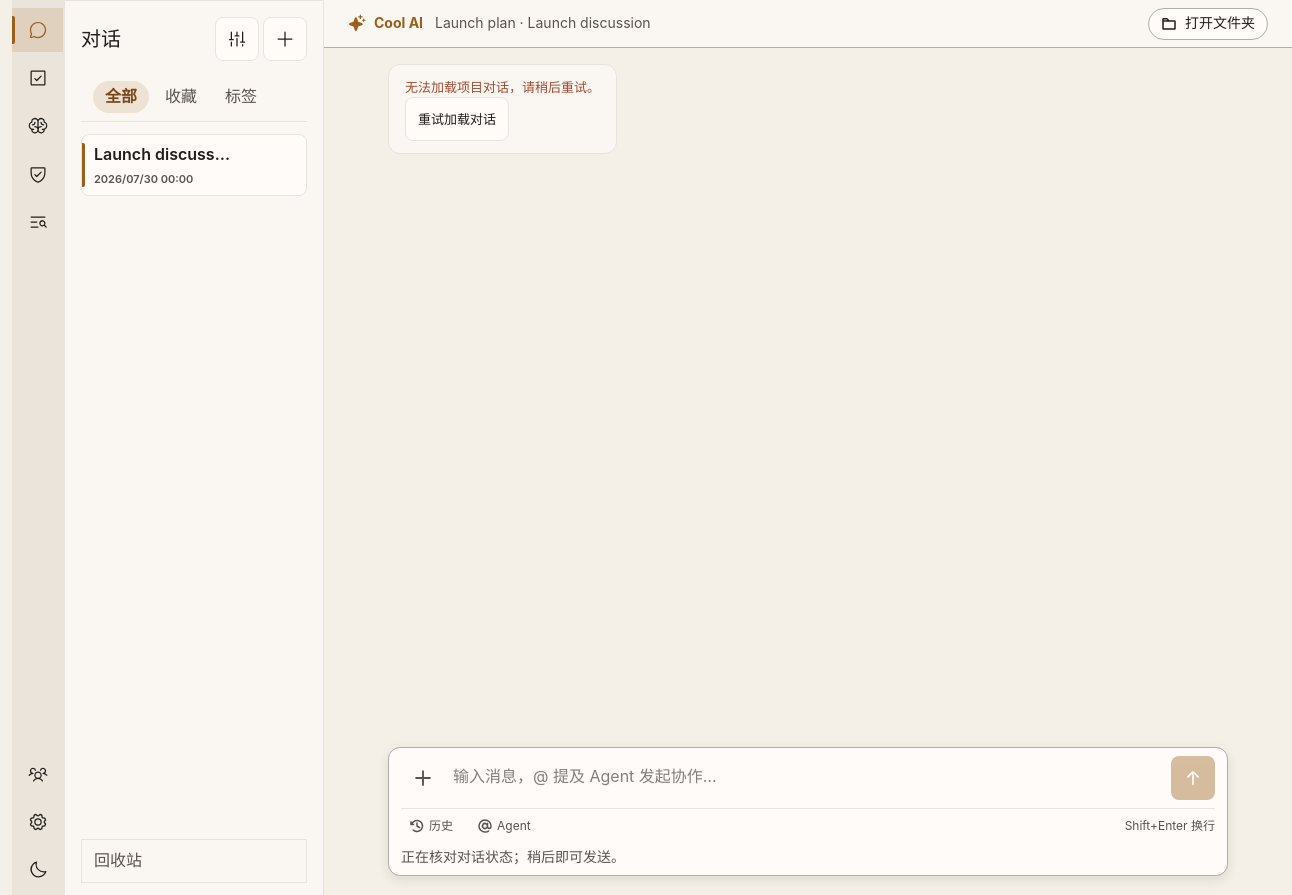
desktop collaboration cockpit › keeps 对话 on the current project and returns from governance with Escape or Cmd+1
The width and height of the screenshot is (1292, 895).
Click the button named "任务".
click(38, 78)  # box [12, 56, 63, 100]
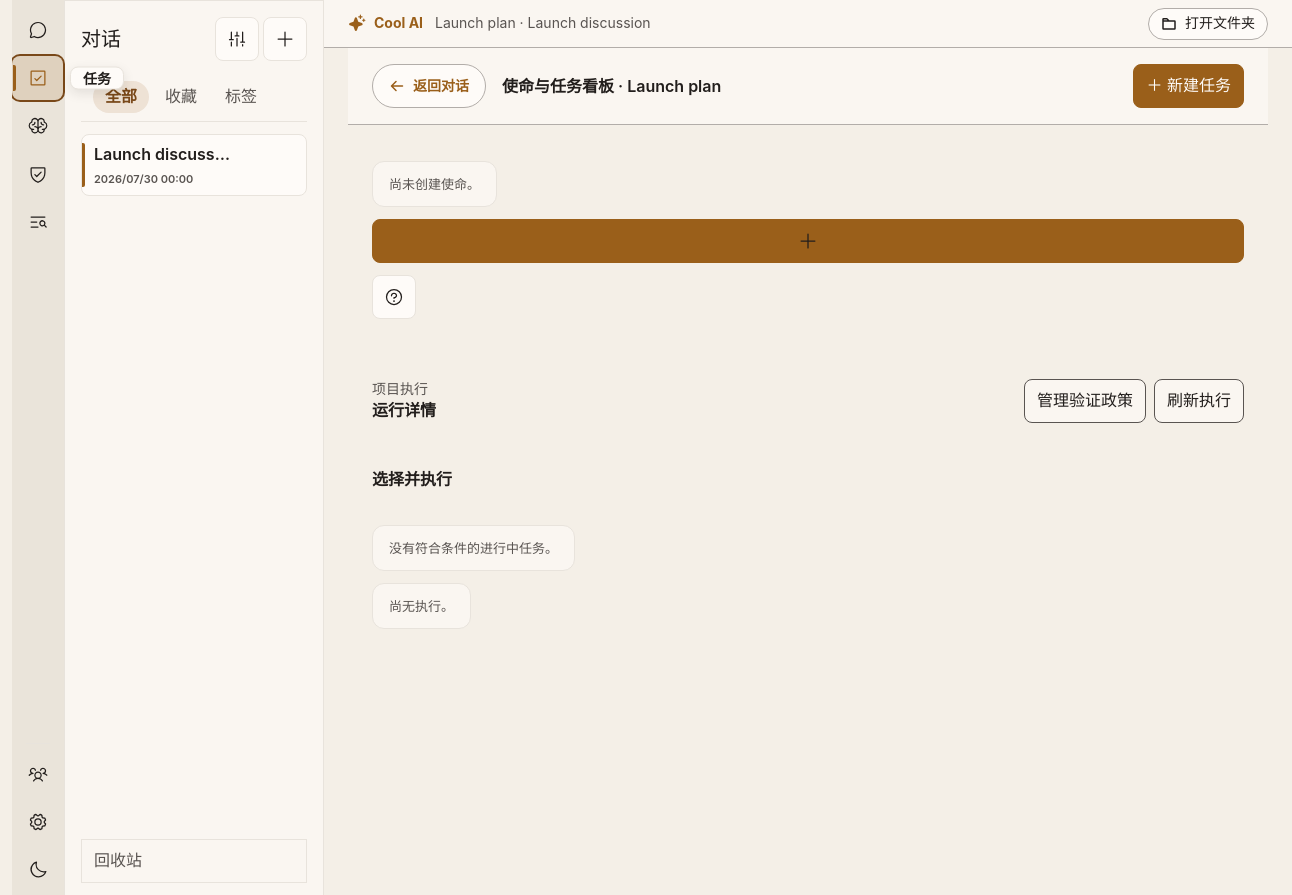
Check: the button "返回对话" is shown, box [372, 64, 486, 108]
Press Escape
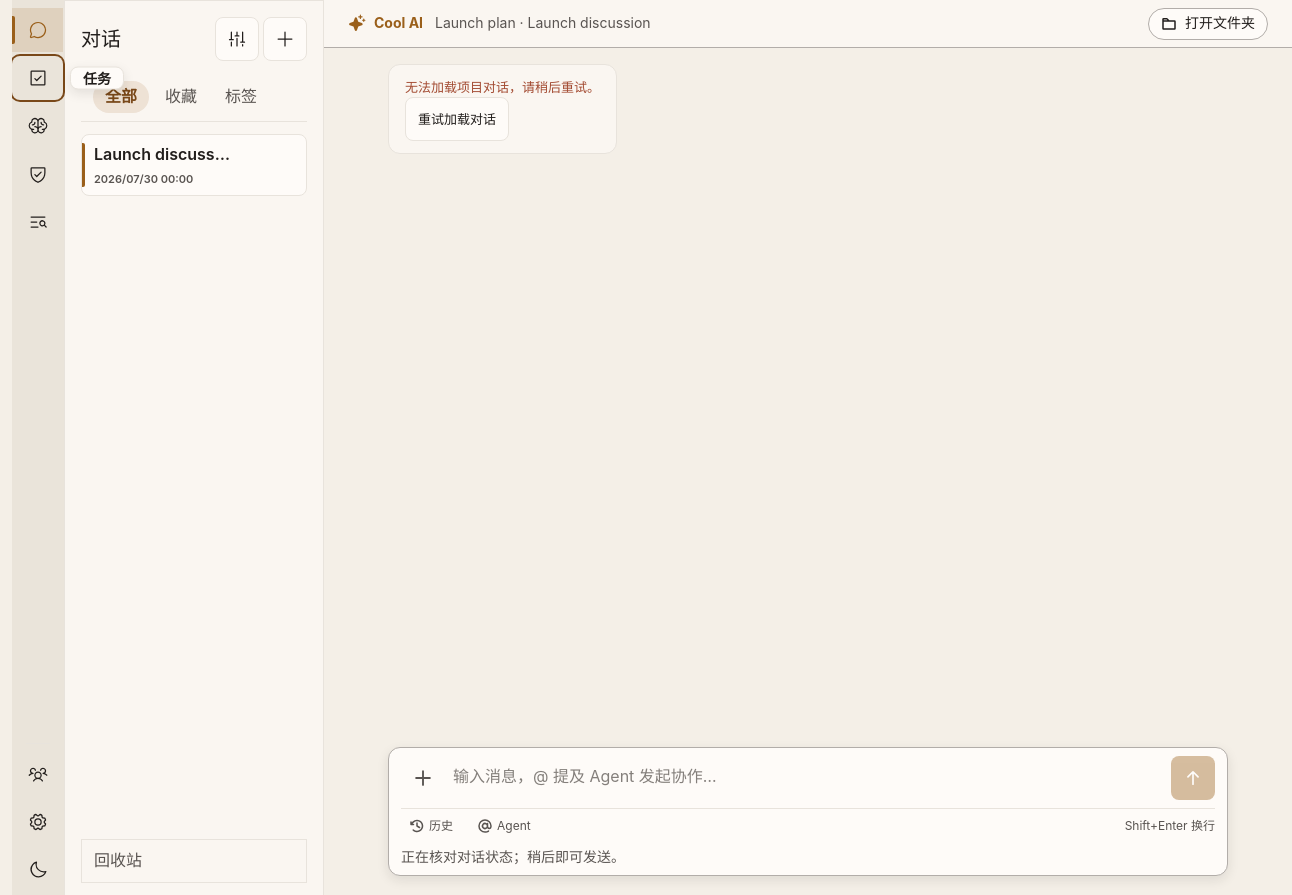
Check: the button "返回对话" is gone
Type keys "{Control>}3{/Control}"
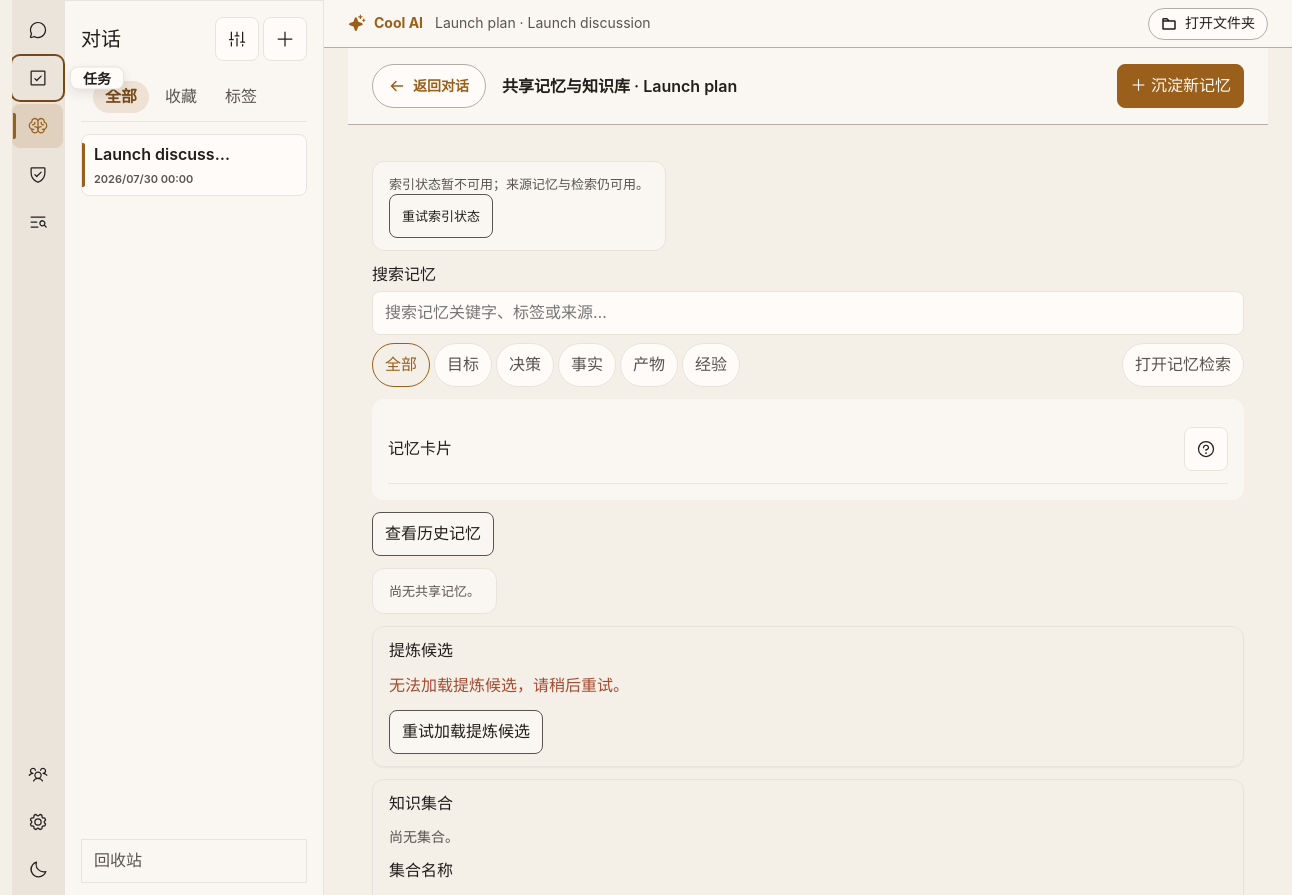
Check: the button "返回对话" is shown, box [372, 64, 486, 108]
Type keys "{Control>}1{/Control}"
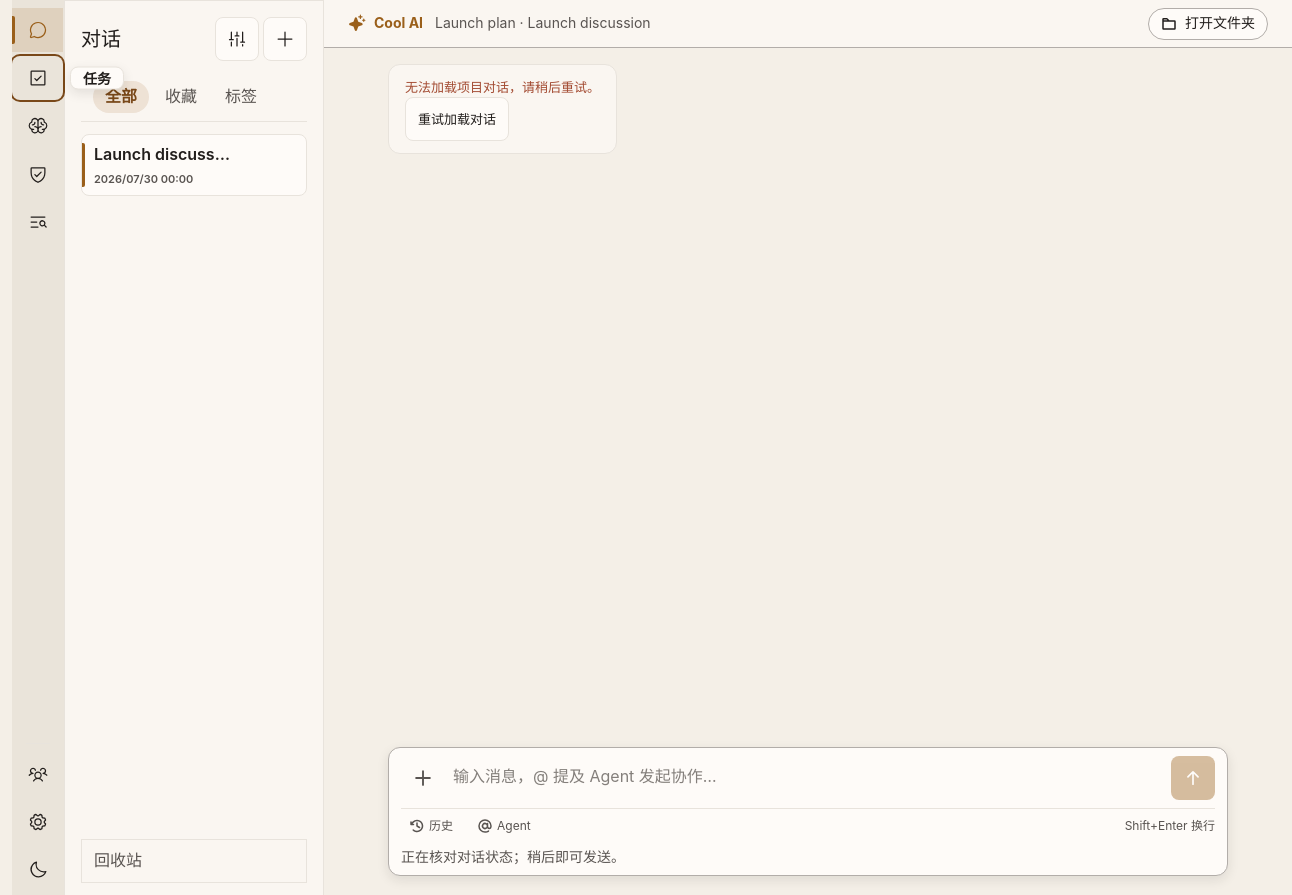
Check: the button "返回对话" is gone
